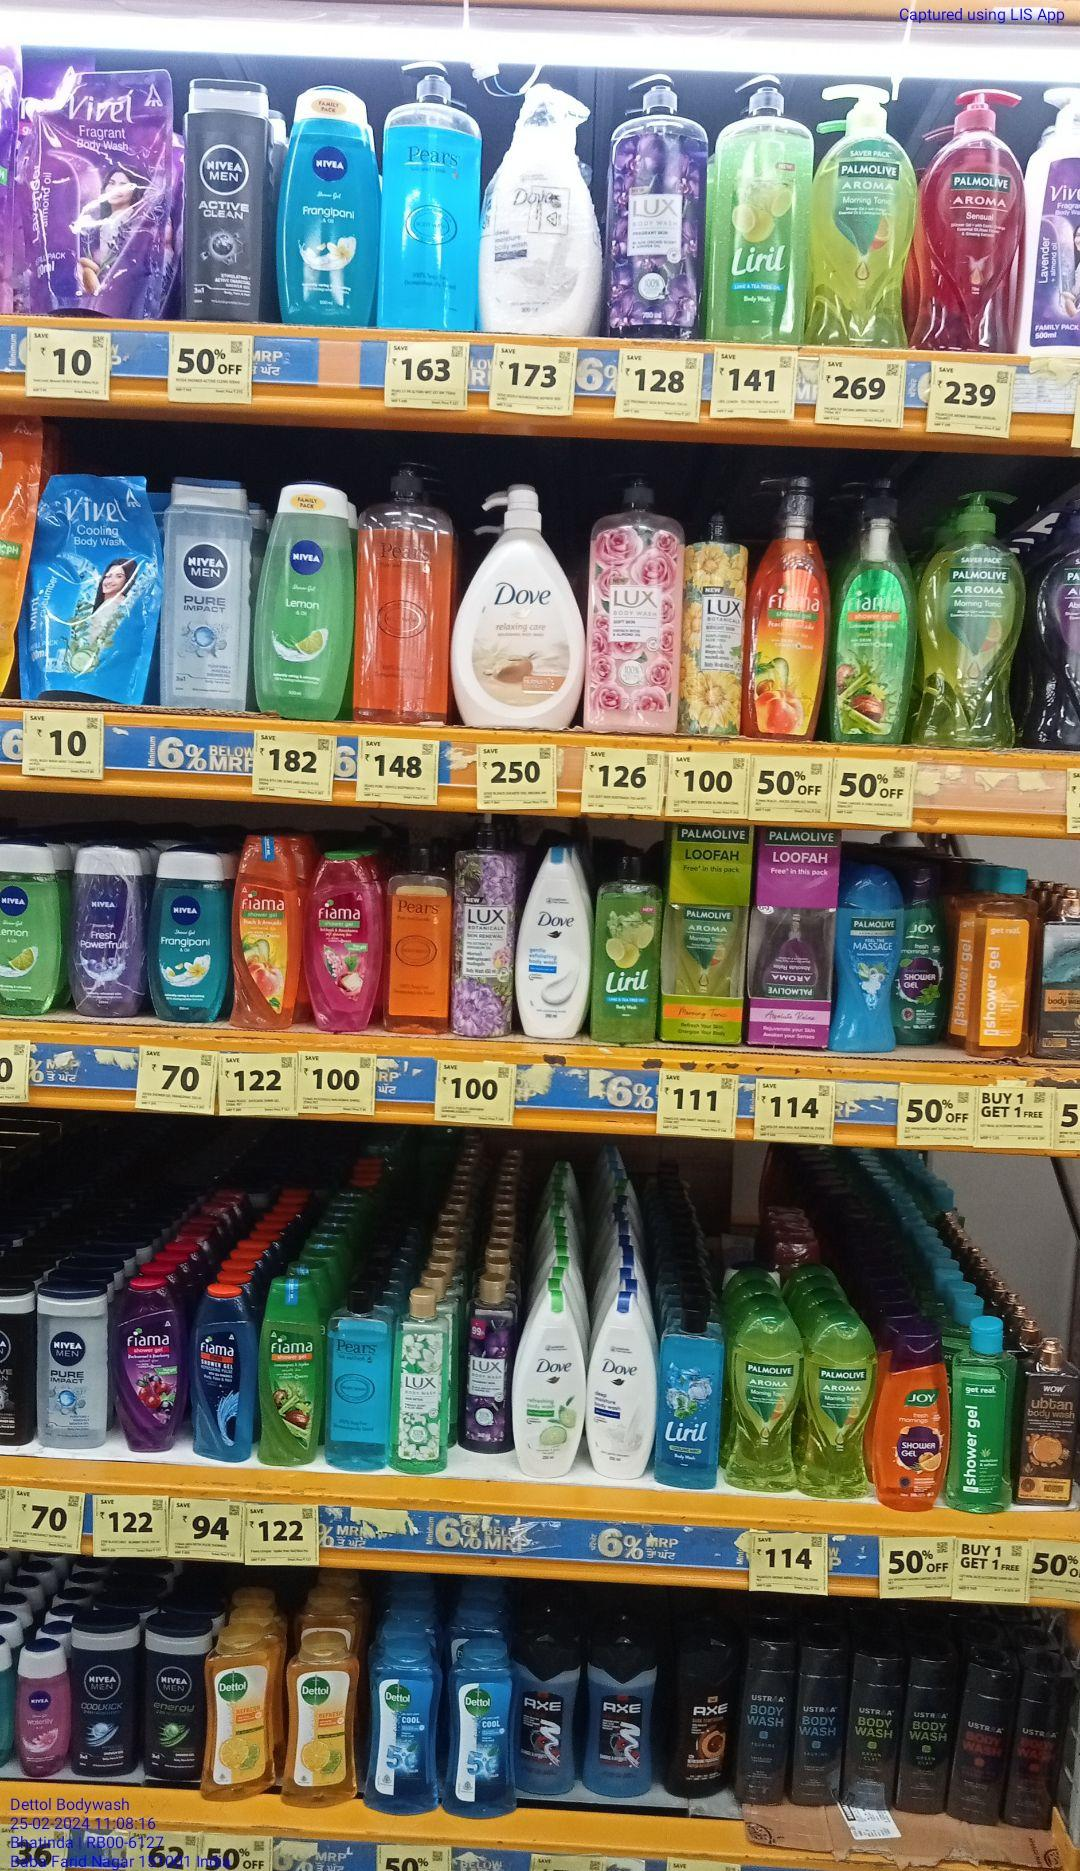Dettol_Bodywash_Cool: (446, 1656, 519, 1820), (369, 1649, 438, 1816)
Dettol_Bodywash_Refresh: (284, 1637, 360, 1808), (203, 1635, 275, 1802)
Dove_Deep_Moisture_Body_Wash_250ML: (589, 1297, 657, 1480)
Dove_Gentle_Exfoliating_Body_Wash_250ML: (514, 848, 586, 1040)
Dove_Refreshing_Body_Wash_250ML: (514, 1291, 586, 1479)
Fiama_Shower_Gel_Patchouli_and_Macadamia_250ML: (306, 853, 378, 1036)
Joy_Shower_Gel_Mandarin_and_Lemongrass_250ML: (874, 1331, 949, 1512)
Joy_Shower_Gel_Mint_and_Eucalyptus_250ML: (906, 866, 951, 1049)
Liril_Cooling_Mint_Body_Wash_250ML: (661, 1306, 719, 1489)
Liril_Lime_and_Tea_Tree_Oil_Body_Wash_250ML: (590, 851, 658, 1043)
Lux_Black_Orchid_Scent_and_Juniper_Oil_Body_Wash_245ML: (462, 1279, 512, 1455)
Lux_Body_Wash_Skin_Detox_Freesia_Scent_and_Alove_Vera_245ML: (393, 1295, 453, 1473)
Nivea_Shower_Gel_Frangipani_and_Oil_250ML: (278, 85, 375, 325), (153, 852, 226, 1020)
Nivea_Shower_Gel_Fresh_Powerfruit_250ML: (71, 848, 148, 1016)
Nivea_Shower_Gel_Lemon_and_Oil_250ML: (258, 483, 350, 721), (0, 840, 62, 1018)
Palmolive_Aroma_Moments_Feel_The_Massage_Shower_Gel_250ML: (834, 873, 905, 1054)
Palmolive_Aroma_Morning_Tonic_Shower_Gel_250ML: (728, 1312, 796, 1492), (805, 1322, 869, 1501)
Pears_Pure_Glycerin_and_Mint_Extracts_Body_Wash_250ML: (328, 1285, 387, 1470)
